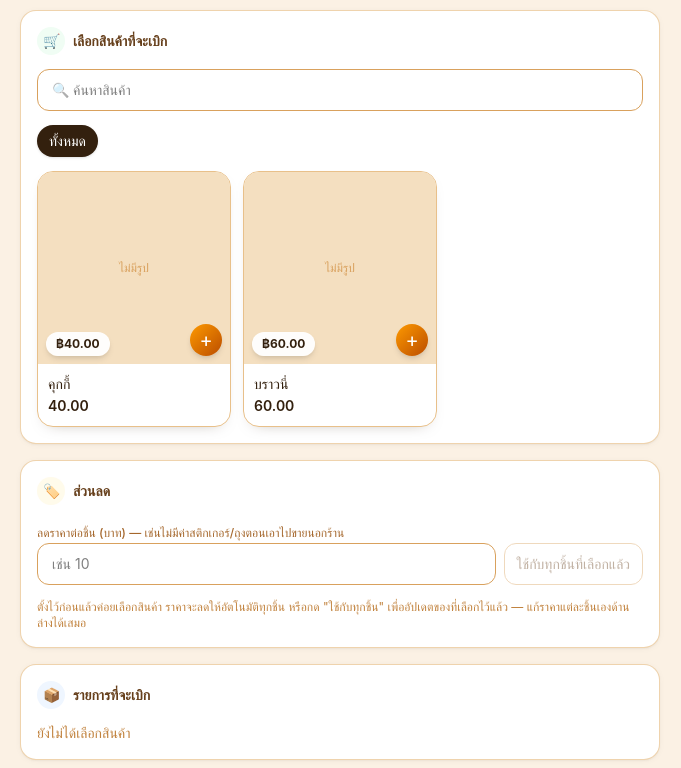
it: NewWithdrawalPage — ลดราคาต่อชิ้นสำหรับเบิกไปขายนอกร้าน (เช่นไม่มีค่าสติกเกอร์/ถุง) › เลือกสินค้าไว้ก่อนแล้วตั้งส่วนลดทีหลัง กด "ใช้กับทุกชิ้น" ปรับราคาของที่เลือกไว้แล้วทั้งหมด
The image size is (681, 768).
(page scrolled)
Click the text "คุกกี้" at x=59, y=384, box [48,375,70,392]
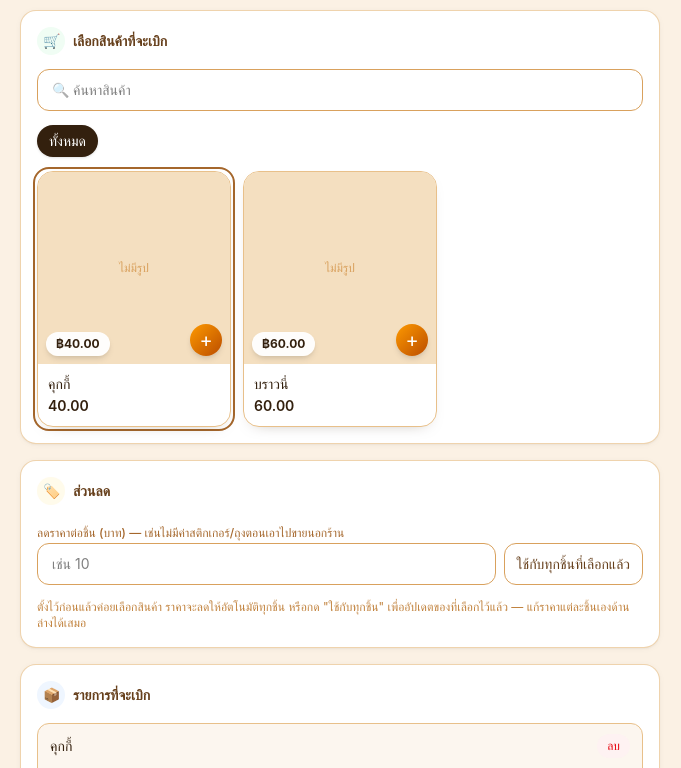
Click the text "บราวนี่" at x=271, y=384, box [254,375,288,392]
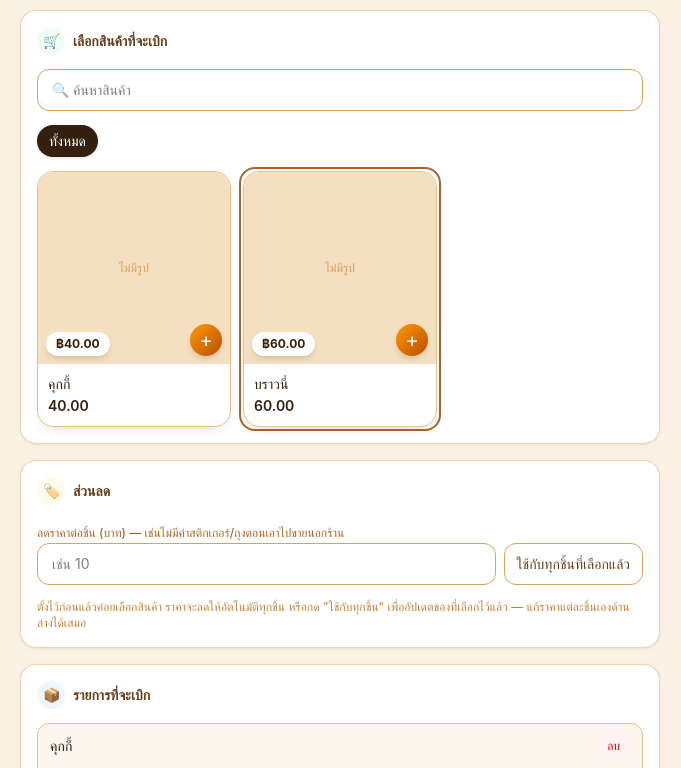
Type "10" into the number field labelled "ลดราคาต่อชิ้น" at x=266, y=564, box [37,543,496,585]
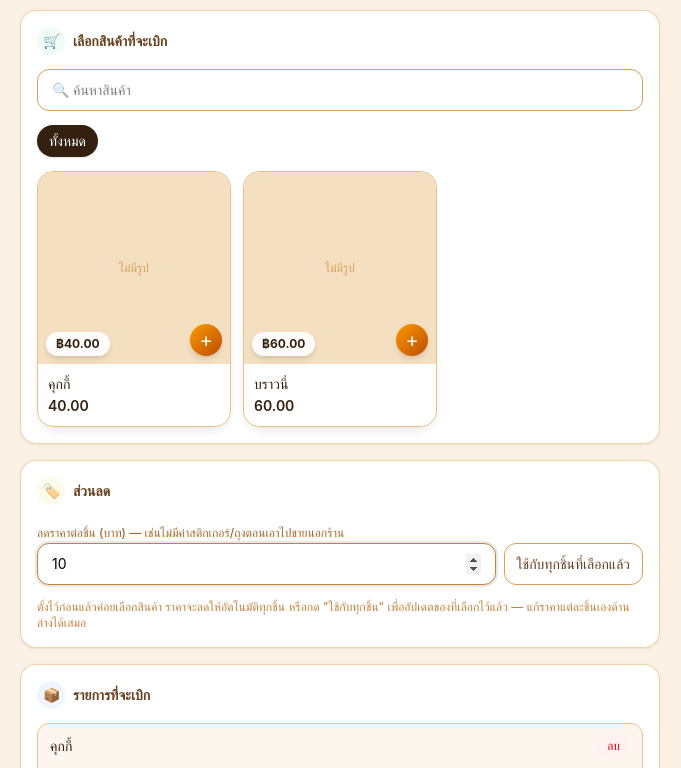
Click the button "ใช้กับทุกชิ้นที่เลือกแล้ว" at x=573, y=564, box [504,543,643,585]
(page scrolled)
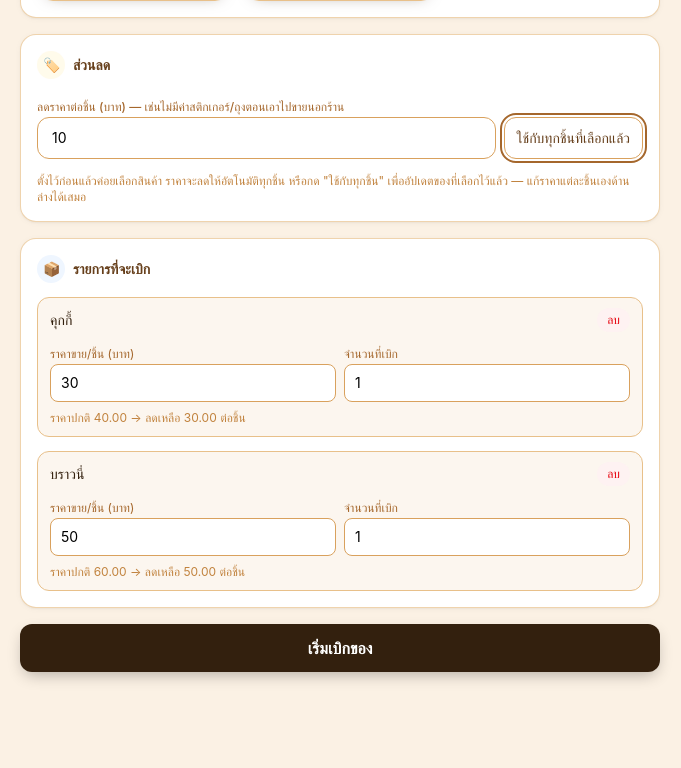
expect the 1st number field labelled "ราคาขาย/ชิ้น (บาท)" holds "30": met, box [50,364,336,402]
expect the 2nd number field labelled "ราคาขาย/ชิ้น (บาท)" holds "50": met, box [50,518,336,556]
